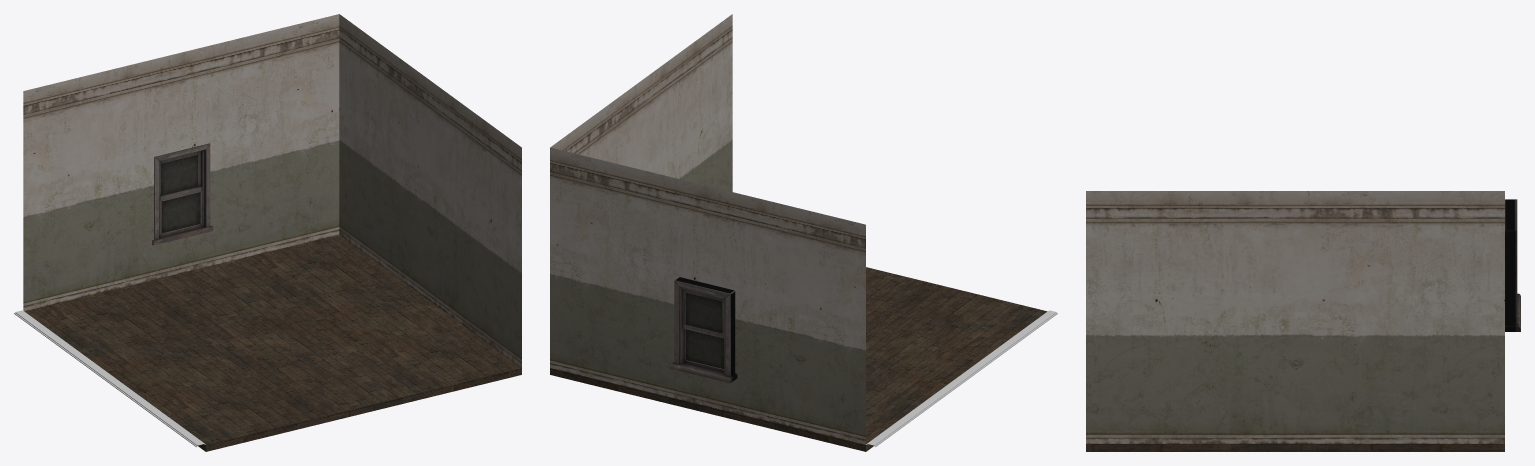
File: hallway_end_corner_window_left.fbx
3 views of the same model, side by side, from view 1: azimuth 30°, elevation 25°; view 2: azimuth 150°, elevation 25°; view 3: azimuth 270°, elevation 25° (orthographic). The views are drawn at different scales.
Parts seen in each view (by area): view 1: hallway_end_corner_window_left; view 2: hallway_end_corner_window_left; view 3: hallway_end_corner_window_left.
Part boxes in pixels (x1=…): hallway_end_corner_window_left: x1=14, y1=14, x2=521, y2=451; hallway_end_corner_window_left: x1=550, y1=14, x2=1057, y2=451; hallway_end_corner_window_left: x1=1086, y1=191, x2=1520, y2=451.
Size of the model in its own units: 618 by 412 by 623.
